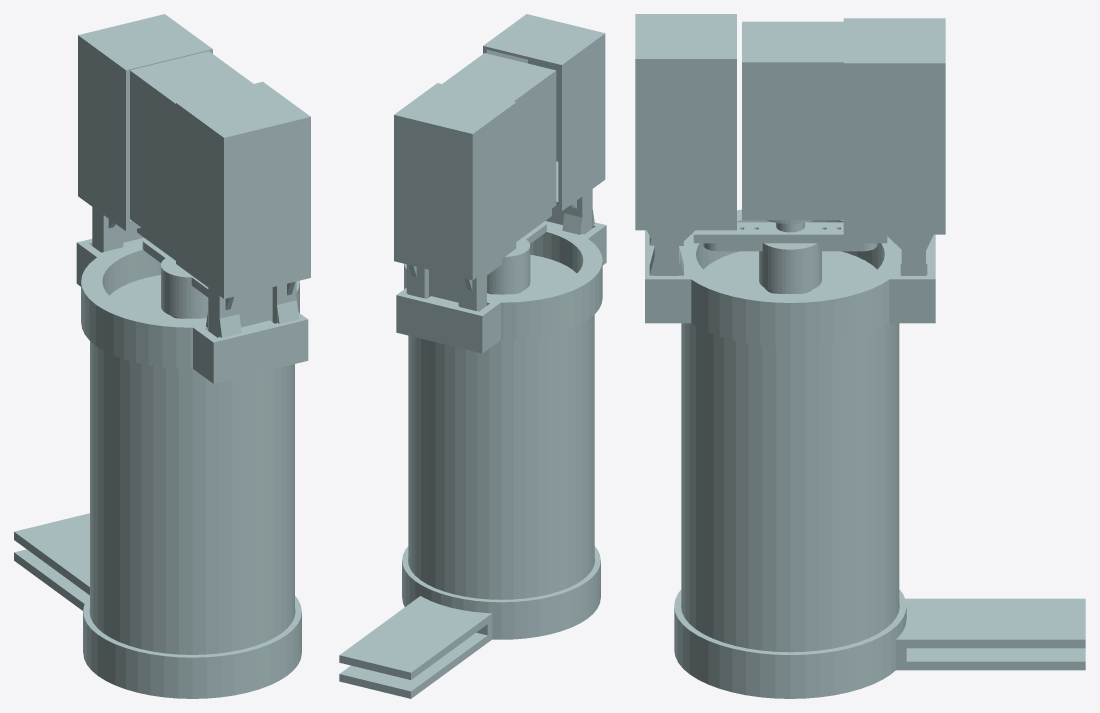
Rendered from Fiskmatare.glb.
The picture shows the model from 3 angles, left to right: view 1: azimuth 30°, elevation 25°; view 2: azimuth 150°, elevation 25°; view 3: azimuth 270°, elevation 25°; orthographic projection. The views are drawn at different scales.
Visible parts, largest first — view 1: Mesh_Mesh_head_geo.001_lambert2SG.001; view 2: Mesh_Mesh_head_geo.001_lambert2SG.001; view 3: Mesh_Mesh_head_geo.001_lambert2SG.001.
Part boxes in pixels (left/top/right/bottom): Mesh_Mesh_head_geo.001_lambert2SG.001: left=14, top=14, right=310, bottom=698; Mesh_Mesh_head_geo.001_lambert2SG.001: left=339, top=14, right=606, bottom=698; Mesh_Mesh_head_geo.001_lambert2SG.001: left=635, top=14, right=1085, bottom=698.
Size of the model in its own units: 48.5 by 140 by 93.05.
